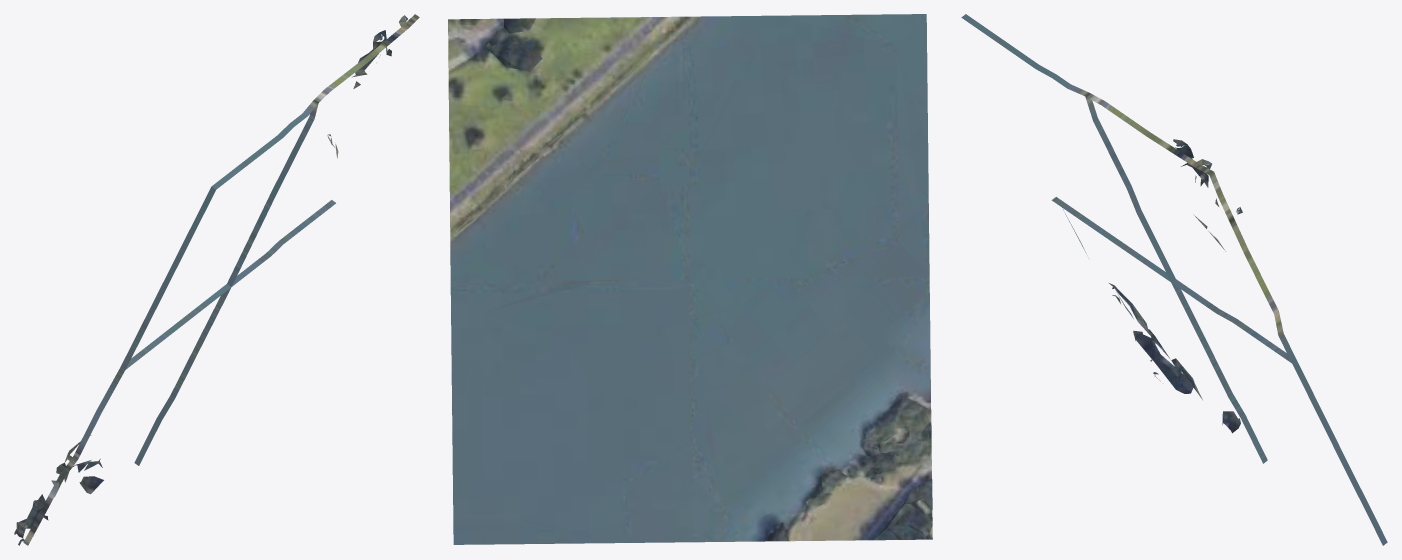
The picture shows the model from 3 angles, left to right: view 1: azimuth 30°, elevation 25°; view 2: azimuth 150°, elevation 25°; view 3: azimuth 270°, elevation 25°; orthographic projection. The views are drawn at different scales.
Size of the model in its own units: 307 by 282 by 259.
1 material, 1 textured.
